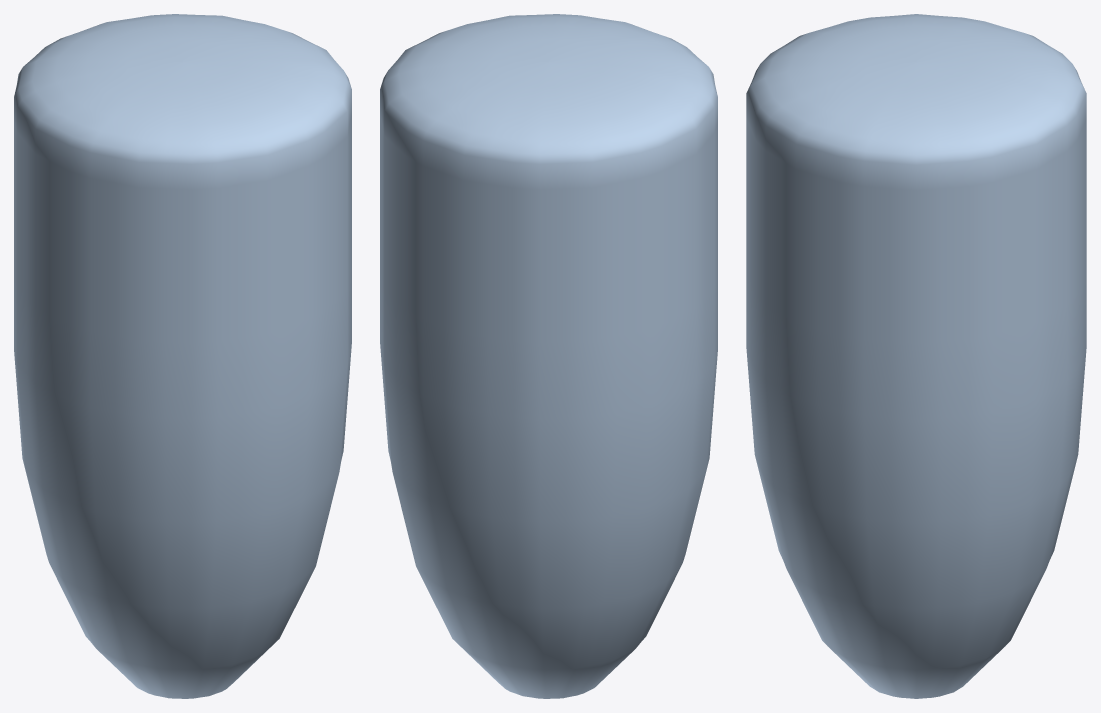
The model's file is shell_small_pill.glb.
The picture shows the model from 3 angles, left to right: view 1: azimuth 30°, elevation 25°; view 2: azimuth 150°, elevation 25°; view 3: azimuth 270°, elevation 25°; orthographic projection.
Parts seen in each view (by area): view 1: Rock; view 2: Rock; view 3: Rock.
Part boxes in pixels (left/top/right/bottom): Rock: left=14, top=14, right=351, bottom=698; Rock: left=380, top=14, right=717, bottom=698; Rock: left=746, top=14, right=1086, bottom=698.
Size of the model in its own units: 1.21 by 2.48 by 1.21.
